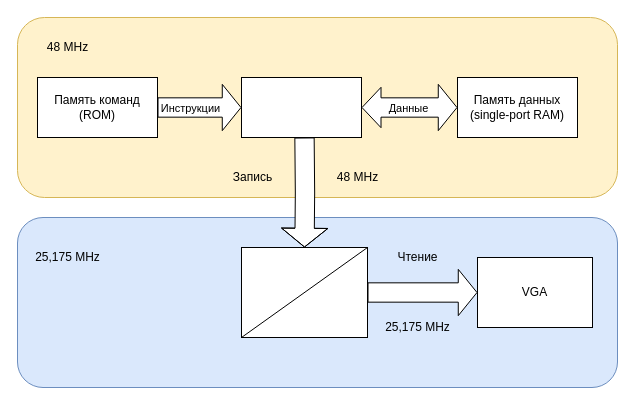
The diagram is 635 pixels wide and 405 high, and some of its shapes have lost their labels. Here are the shapes that lost their labels. From the top down, the centre of each, then its label:
At point 301,107: "Ядро RISC-V".
At point 304,292: "Графическая память (Dual-port RAM)".
